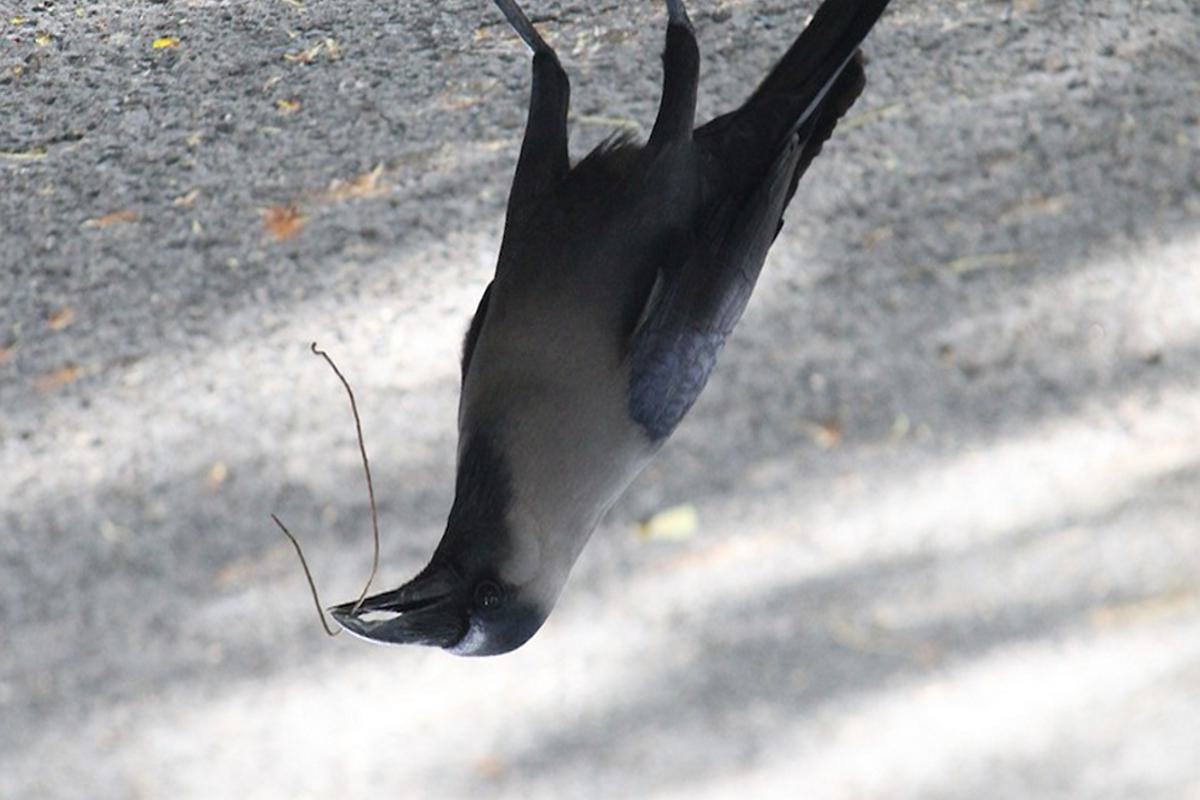crow: (318, 1, 940, 668)
